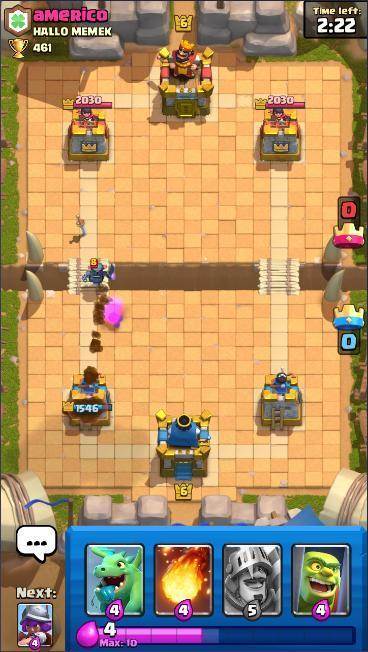enemy_mini_pekka: (80, 257, 118, 289)
